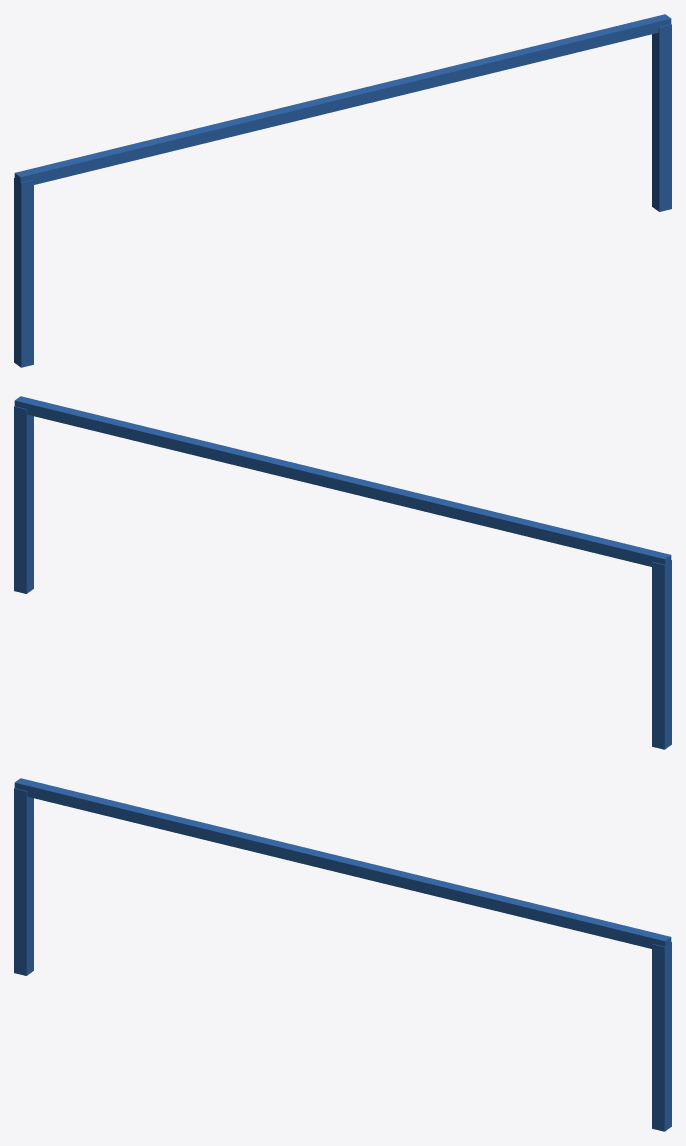
File: sprinkler.glb
The picture shows the model from 3 angles, top to bottom: view 1: azimuth 30°, elevation 25°; view 2: azimuth 150°, elevation 25°; view 3: azimuth 330°, elevation 25°; orthographic projection.
Visible parts, largest first — view 1: arch; view 2: arch; view 3: arch.
Part boxes in pixels (x1,y1,x2,y2): arch: (14, 14, 671, 367); arch: (14, 396, 671, 749); arch: (14, 778, 671, 1131).
Size of the model in its own units: 15.5 by 4.32 by 0.3.
